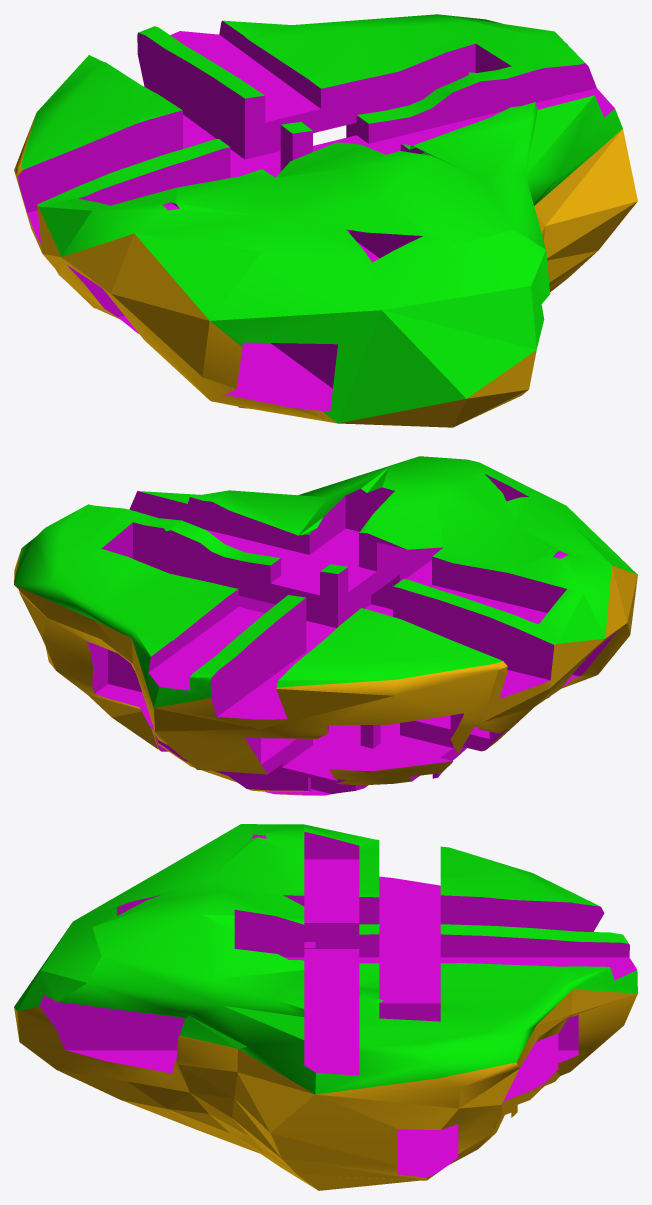
File: LandChunkF_Glitch.fbx
The picture shows the model from 3 angles, top to bottom: view 1: azimuth 30°, elevation 25°; view 2: azimuth 150°, elevation 25°; view 3: azimuth 270°, elevation 25°; orthographic projection. The views are drawn at different scales.
Parts seen in each view (by area): view 1: LandChunkF_Glitch; view 2: LandChunkF_Glitch; view 3: LandChunkF_Glitch.
Boxes of the visible parts, left/top/right/bottom form: LandChunkF_Glitch: left=14, top=14, right=637, bottom=427; LandChunkF_Glitch: left=14, top=456, right=637, bottom=795; LandChunkF_Glitch: left=14, top=824, right=637, bottom=1190.
Bounding box in the file's own units: 118 × 53.26 × 128.
